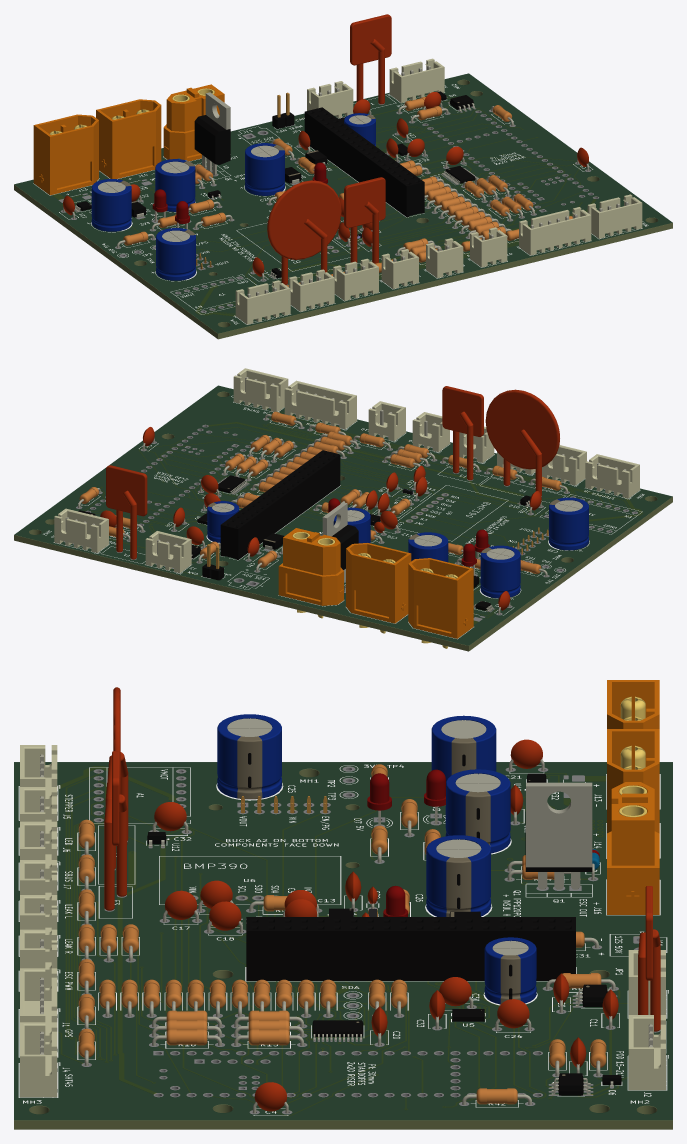
Rendered from v3-carrier.glb.
3 renders of one model, top to bottom at view 1: azimuth 30°, elevation 25°; view 2: azimuth 150°, elevation 25°; view 3: azimuth 270°, elevation 25°, orthographic. The views are drawn at different scales.
Parts seen in each view (by area): view 1: =>[0:1:1:65], =>[0:1:1:67], =>[0:1:1:3], =>[0:1:1:7], =>[0:1:1:13], =>[0:1:1:9], =>[0:1:1:5], =>[0:1:1:63], =>[0:1:1:61], =>[0:1:1:29]; view 2: =>[0:1:1:65], =>[0:1:1:67], =>[0:1:1:3], =>[0:1:1:13], =>[0:1:1:9], =>[0:1:1:7], =>[0:1:1:5], =>[0:1:1:63], =>[0:1:1:61], =>[0:1:1:29], =>[0:1:1:60]; view 3: =>[0:1:1:65], =>[0:1:1:67], =>[0:1:1:7], =>[0:1:1:3], =>[0:1:1:13], =>[0:1:1:5], =>[0:1:1:9], =>[0:1:1:63], =>[0:1:1:61], =>[0:1:1:60], =>[0:1:1:29].
Boxes of the visible parts, left/top/right/bottom form: =>[0:1:1:65]: left=14, top=73, right=672, bottom=333; =>[0:1:1:67]: left=14, top=74, right=672, bottom=339; =>[0:1:1:3]: left=63, top=14, right=589, bottom=284; =>[0:1:1:7]: left=76, top=91, right=475, bottom=280; =>[0:1:1:13]: left=235, top=58, right=642, bottom=324; =>[0:1:1:9]: left=33, top=84, right=224, bottom=195; =>[0:1:1:5]: left=123, top=96, right=572, bottom=286; =>[0:1:1:63]: left=33, top=84, right=648, bottom=324; =>[0:1:1:61]: left=58, top=97, right=598, bottom=312; =>[0:1:1:29]: left=152, top=162, right=327, bottom=223; =>[0:1:1:65]: left=14, top=385, right=672, bottom=645; =>[0:1:1:67]: left=14, top=386, right=672, bottom=651; =>[0:1:1:3]: left=78, top=386, right=582, bottom=620; =>[0:1:1:13]: left=54, top=368, right=639, bottom=572; =>[0:1:1:9]: left=278, top=528, right=473, bottom=648; =>[0:1:1:7]: left=78, top=450, right=588, bottom=610; =>[0:1:1:5]: left=79, top=411, right=561, bottom=574; =>[0:1:1:63]: left=43, top=395, right=644, bottom=639; =>[0:1:1:61]: left=64, top=401, right=637, bottom=621; =>[0:1:1:29]: left=328, top=498, right=489, bottom=566; =>[0:1:1:60]: left=93, top=422, right=642, bottom=624; =>[0:1:1:65]: left=14, top=762, right=672, bottom=1120; =>[0:1:1:67]: left=14, top=763, right=672, bottom=1129; =>[0:1:1:7]: left=147, top=714, right=621, bottom=1095; =>[0:1:1:3]: left=84, top=687, right=660, bottom=1113; =>[0:1:1:13]: left=20, top=745, right=665, bottom=1097; =>[0:1:1:5]: left=78, top=764, right=606, bottom=1104; =>[0:1:1:9]: left=607, top=680, right=659, bottom=914; =>[0:1:1:63]: left=18, top=764, right=668, bottom=1115; =>[0:1:1:61]: left=81, top=766, right=660, bottom=1114; =>[0:1:1:60]: left=61, top=766, right=626, bottom=1115; =>[0:1:1:29]: left=367, top=769, right=599, bottom=916.
Bounding box in the file's own units: 0.1306 × 0.0376 × 0.1015.
